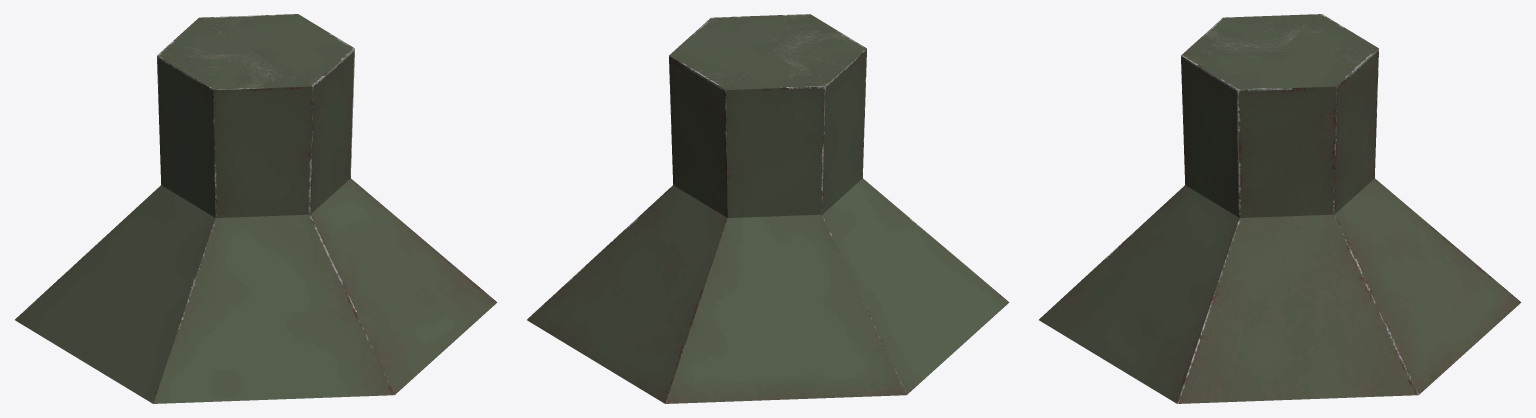
File: LargeNut.fbx
The picture shows the model from 3 angles, left to right: view 1: azimuth 30°, elevation 25°; view 2: azimuth 150°, elevation 25°; view 3: azimuth 270°, elevation 25°; orthographic projection.
Parts seen in each view (by area): view 1: FrustrumCone; view 2: FrustrumCone; view 3: FrustrumCone.
Boxes of the visible parts, x1,y1,x2,y2 form: FrustrumCone: [15, 14, 497, 403]; FrustrumCone: [527, 14, 1009, 403]; FrustrumCone: [1039, 14, 1521, 403].
Bounding box in the file's own units: 209 × 136 × 230.
Materials: 1 (1 with a texture image).
